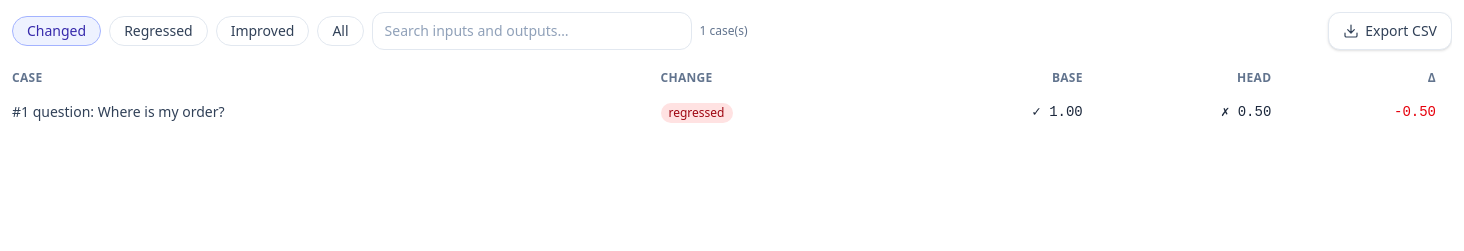
Test case: CompareTable › expands a row into a side-by-side diff
Expected: the text "regressed" is shown, x1=660 y1=102 x2=732 y2=122
Expected: the text "-0.50" is shown, x1=1287 y1=94 x2=1452 y2=130
What coordinates should you click on to do the following:
click the row with test id "compare-row-1"
I would click on:
 (732, 112)
Its box is x1=12 y1=94 x2=1452 y2=130.
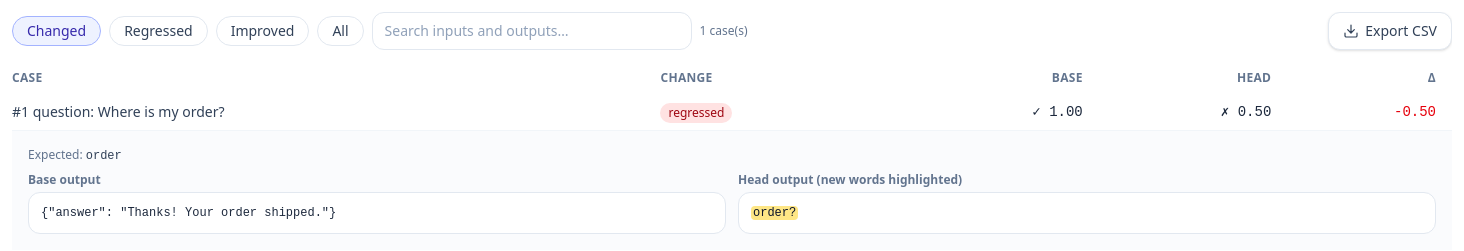
Now the text "Base output" is shown, box x1=28 y1=171 x2=101 y2=188
Now the text "Expected:" is shown, box x1=28 y1=146 x2=86 y2=163
